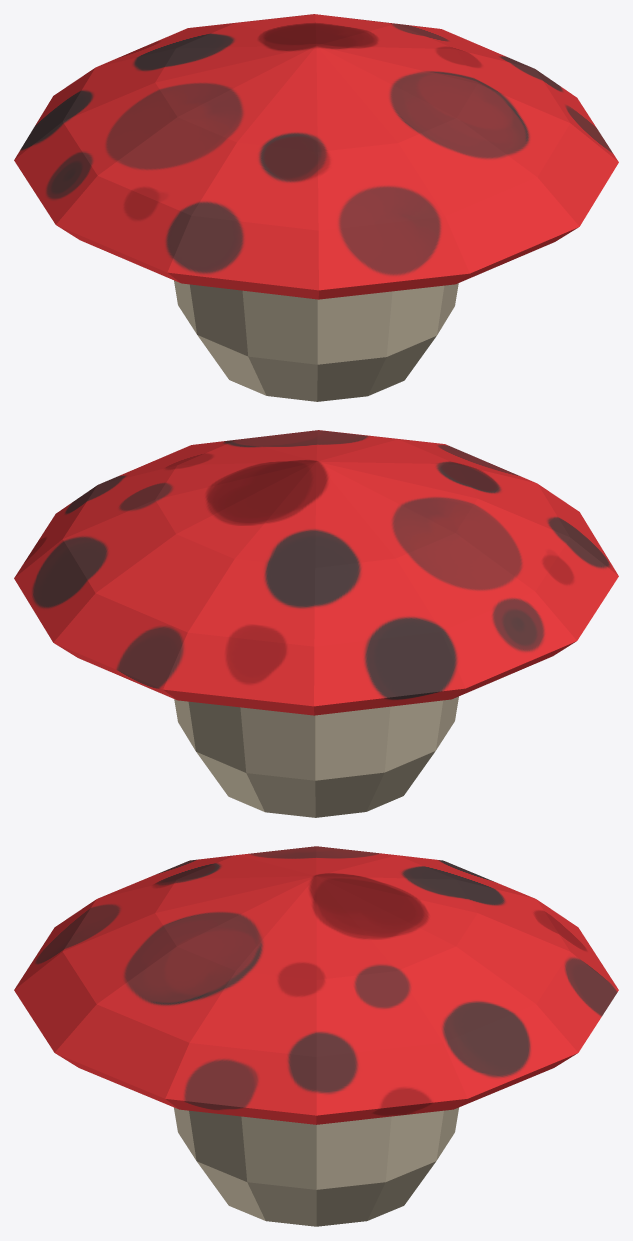
File: MushroomBouncy_Asset_1 (1).fbx
3 views of the same model, one above another, from view 1: azimuth 30°, elevation 25°; view 2: azimuth 150°, elevation 25°; view 3: azimuth 270°, elevation 25° (orthographic).
Visible parts, largest first — view 1: Mushroom_Bouncy_Asset_1; view 2: Mushroom_Bouncy_Asset_1; view 3: Mushroom_Bouncy_Asset_1.
Boxes of the visible parts, box(x1,y1,x2,y2) form: Mushroom_Bouncy_Asset_1: box(14, 14, 618, 401); Mushroom_Bouncy_Asset_1: box(14, 430, 618, 817); Mushroom_Bouncy_Asset_1: box(14, 846, 618, 1226).
Size of the model in its own units: 204 by 124 by 208.
